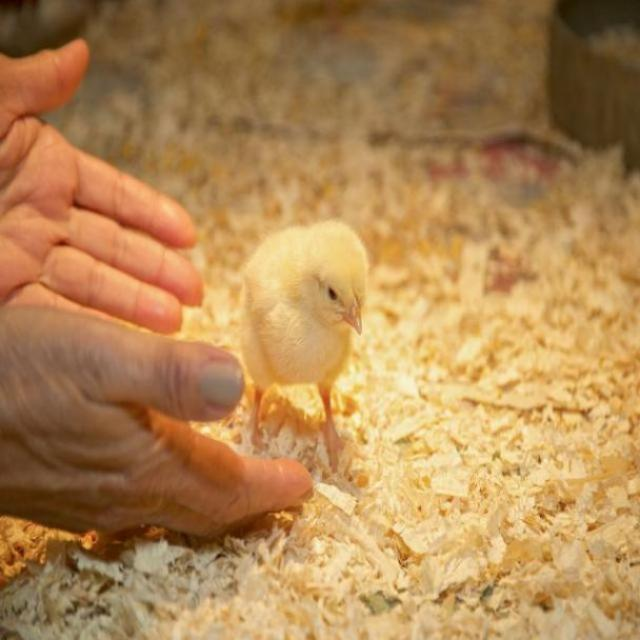Chicken: (229, 221, 366, 488)
